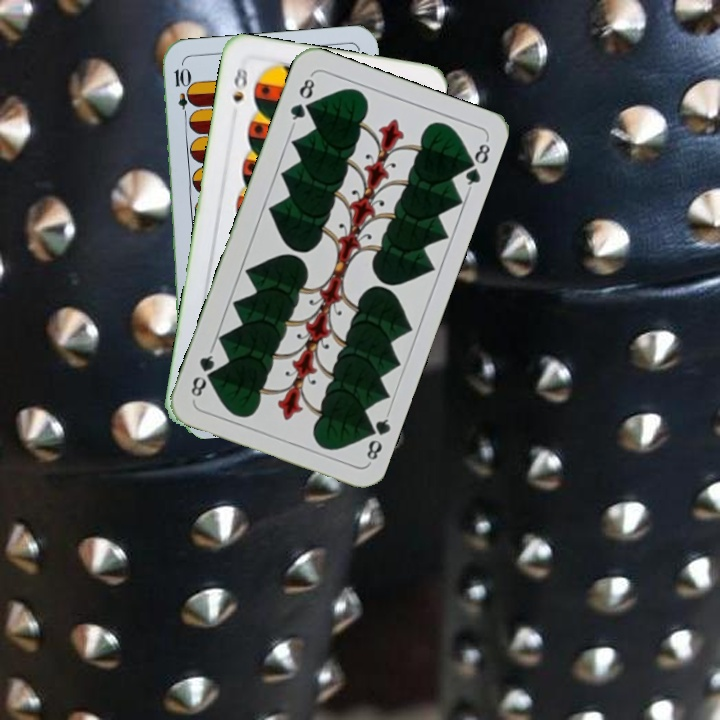E10: (170, 64, 192, 123)
G8: (360, 408, 393, 466), (286, 71, 318, 128)
S8: (228, 63, 251, 105)
